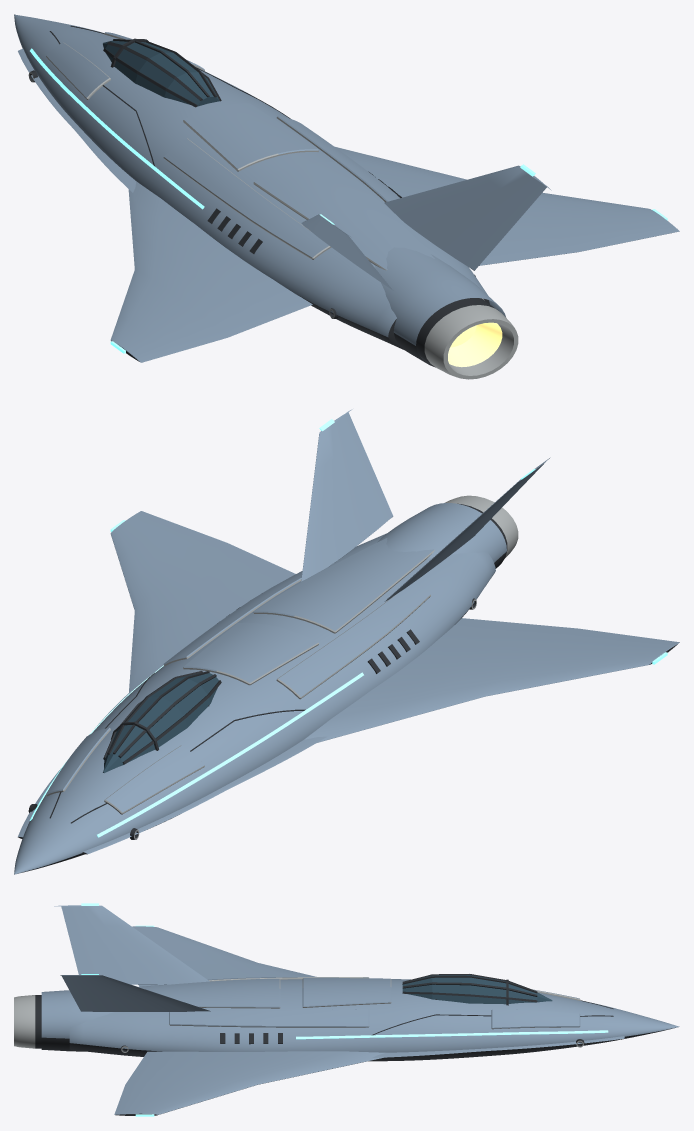
The model's file is wren.glb.
3 views of the same model, one above another, from view 1: azimuth 30°, elevation 25°; view 2: azimuth 150°, elevation 25°; view 3: azimuth 270°, elevation 25° (orthographic). The views are drawn at different scales.
Visible parts, largest first — view 1: Hull_Wren; view 2: Hull_Wren; view 3: Hull_Wren.
Part boxes in pixels (left/top/right/bottom): Hull_Wren: left=14, top=14, right=679, bottom=379; Hull_Wren: left=14, top=409, right=679, bottom=874; Hull_Wren: left=14, top=903, right=679, bottom=1116.
Size of the model in its own units: 40.36 by 11.26 by 60.
